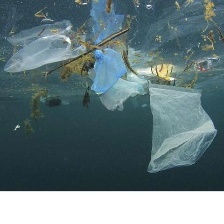plastic_bag: (143, 81, 219, 174), (3, 31, 89, 75), (86, 77, 150, 112), (86, 44, 128, 97), (6, 19, 75, 50)
